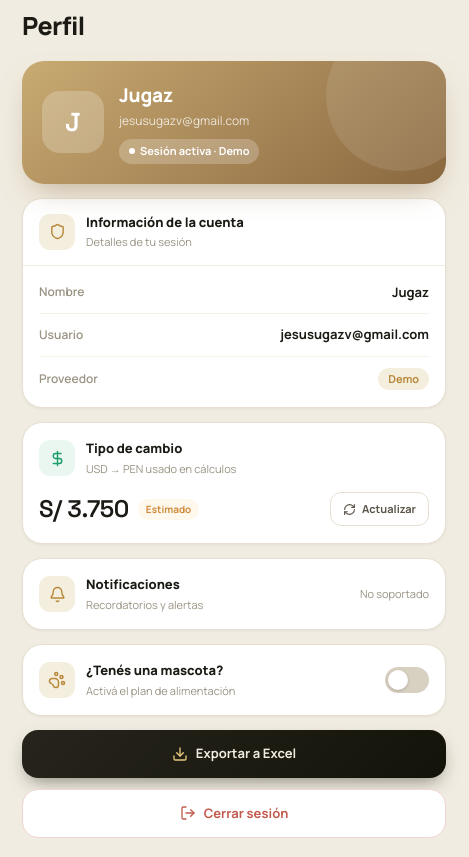
Scenario: should ConfiguracionView › should show plan alimenticio button after hasPet toggle is activated
Click the button named "Activar plan mascota": (407, 680) left=385, top=667, right=429, bottom=693
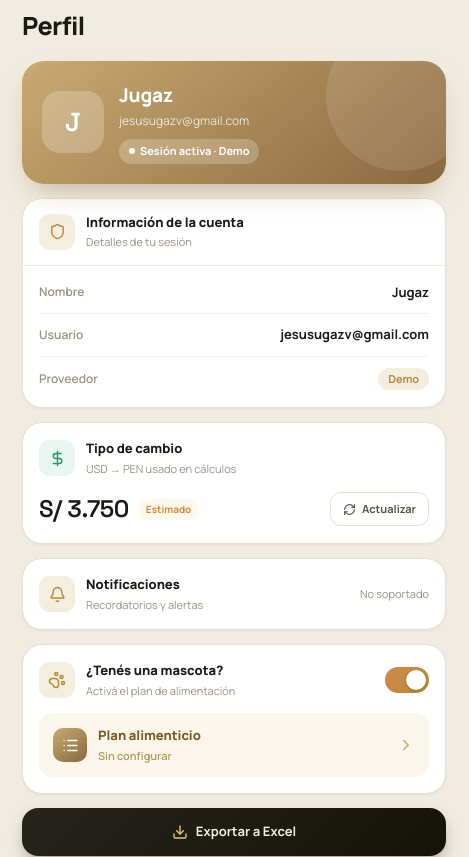
expect the button with aria-label "Abrir plan alimenticio" is shown: met, box left=39, top=713, right=429, bottom=777
